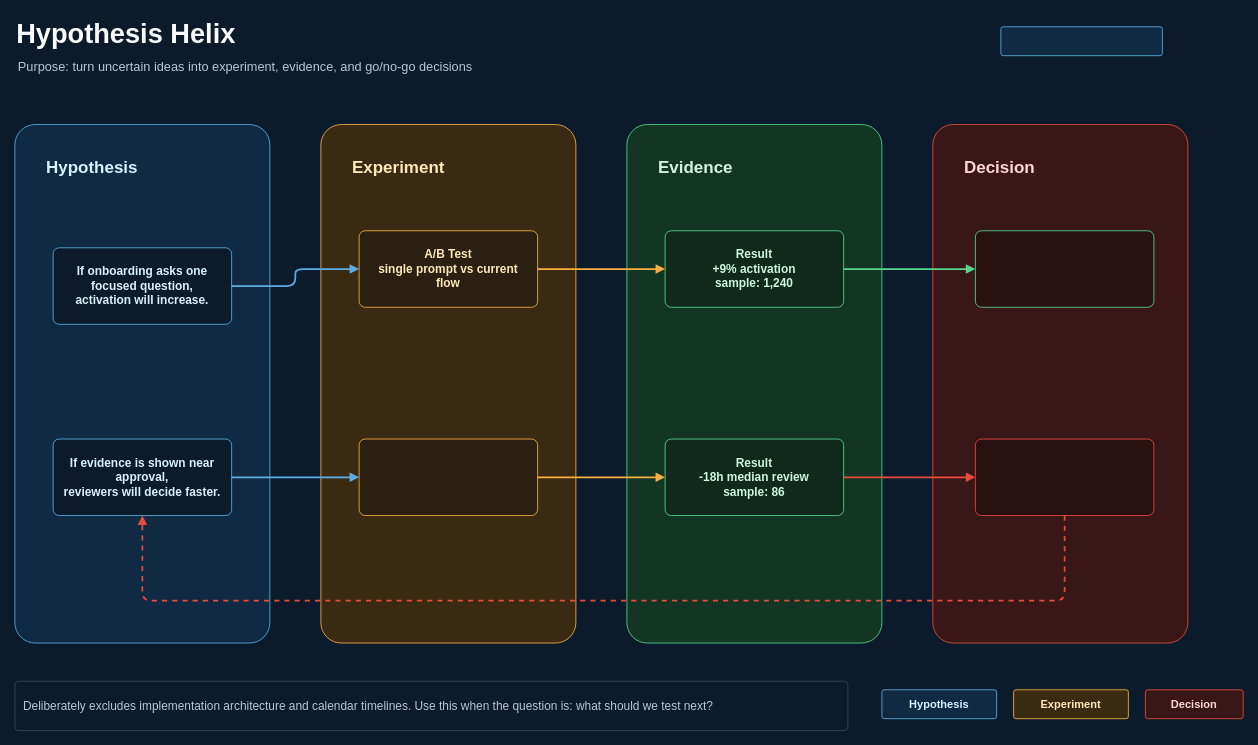
This 1258x745 diagram has some shape labels left out. The box of each missing label's shape, as (x1, y1, x2, y2) in pixels:
Experiment design: (1000, 26, 1162, 56)
GO ship narrow variant: (975, 230, 1154, 307)
ITERATE copy needs one more pass: (975, 438, 1154, 516)
Shadow Review new proof panel only: (358, 438, 538, 516)
